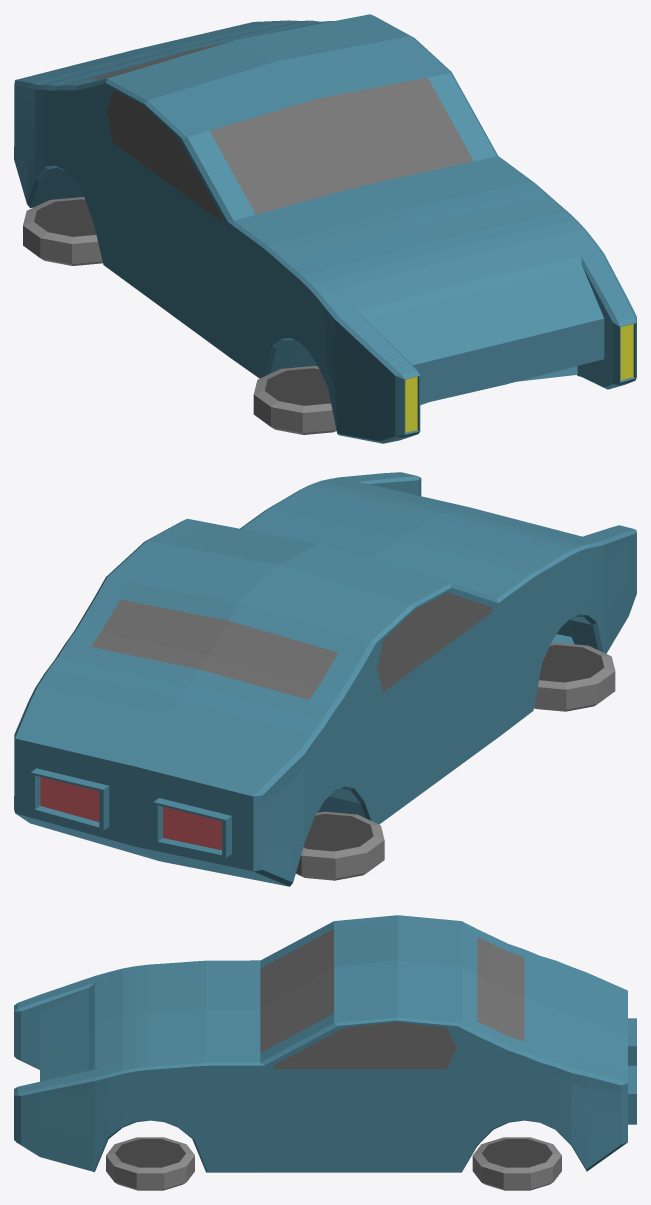
Rendered from Voiture.fbx.
The picture shows the model from 3 angles, top to bottom: view 1: azimuth 30°, elevation 25°; view 2: azimuth 150°, elevation 25°; view 3: azimuth 270°, elevation 25°; orthographic projection. The views are drawn at different scales.
Parts seen in each view (by area): view 1: Cube, Cylinder; view 2: Cube, Cylinder; view 3: Cube, Cylinder.
Boxes of the visible parts, x1,y1,x2,y2 form: Cube: (14, 14, 636, 443); Cylinder: (23, 197, 336, 434); Cube: (14, 472, 636, 886); Cylinder: (296, 642, 615, 880); Cube: (14, 915, 636, 1172); Cylinder: (106, 1137, 561, 1190).
Size of the model in its own units: 579 by 339 by 1142.
